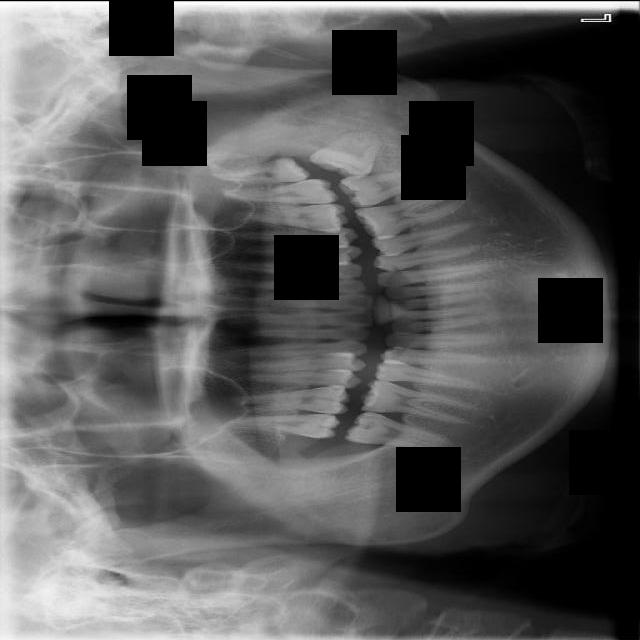73: (576, 35, 584, 38)
BioHorizons Implant: (220, 177, 338, 203)
BioLife Implant: (212, 155, 312, 187)
Biomet 3i Implant: (307, 113, 385, 184)
Blue Sky Bio Implant: (337, 162, 448, 209), (345, 409, 454, 452)
Caries: (220, 411, 338, 438)
